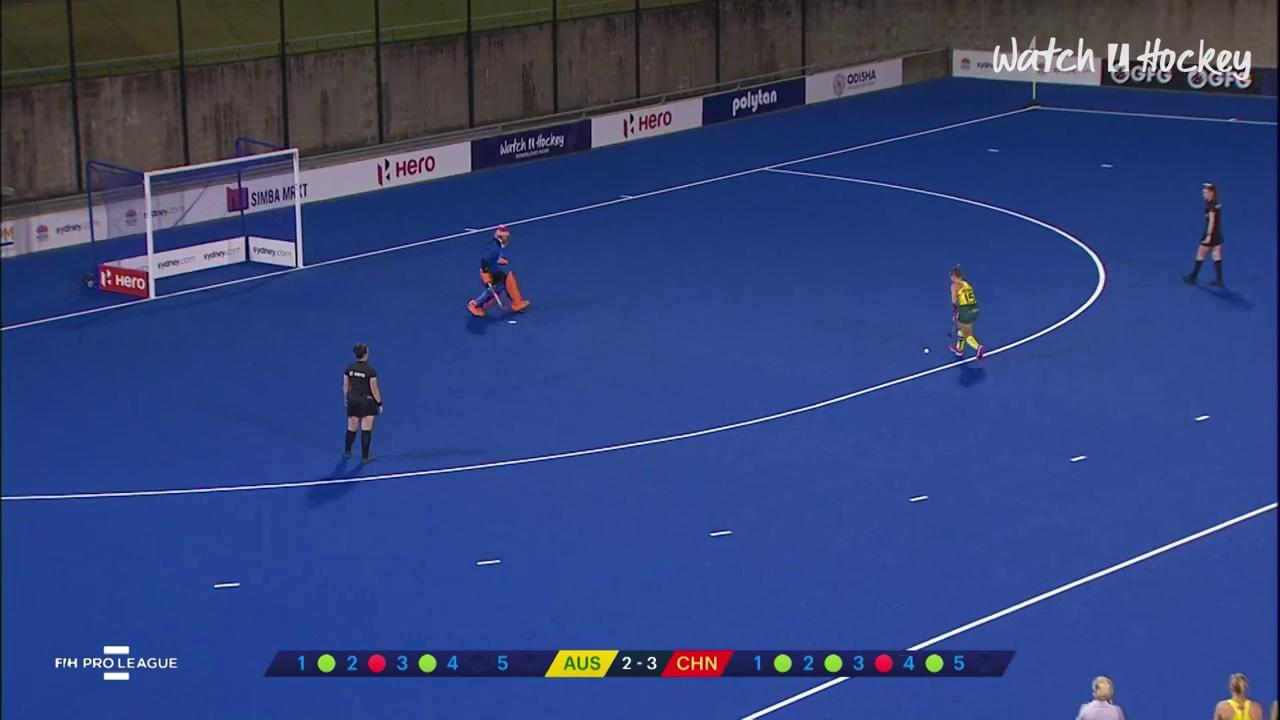ball: (917, 341, 933, 358)
